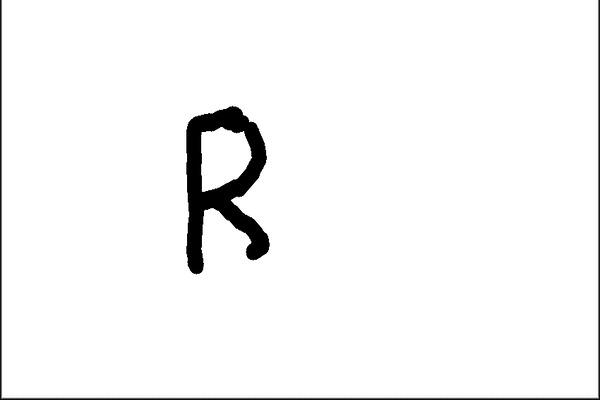R: (172, 95, 284, 280)
